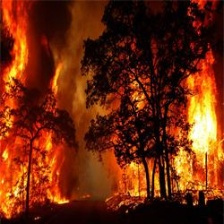fire: (2, 3, 67, 211), (169, 65, 219, 198), (110, 74, 161, 196)
